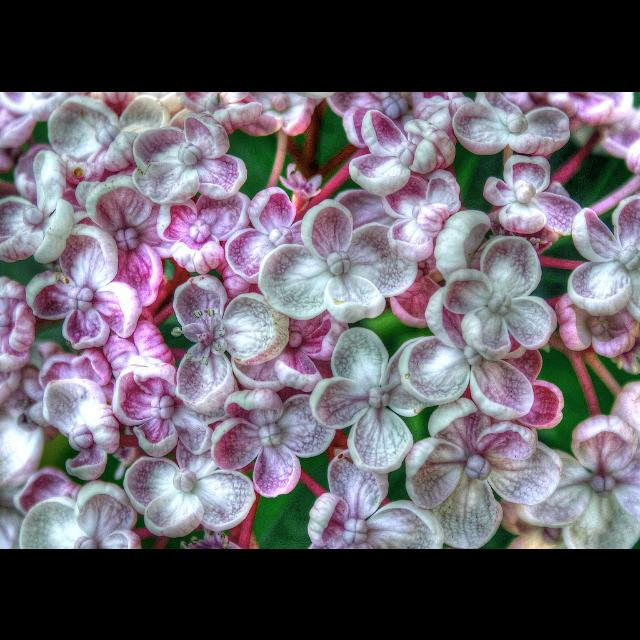Flower: (1, 91, 640, 548), (117, 450, 251, 534)
